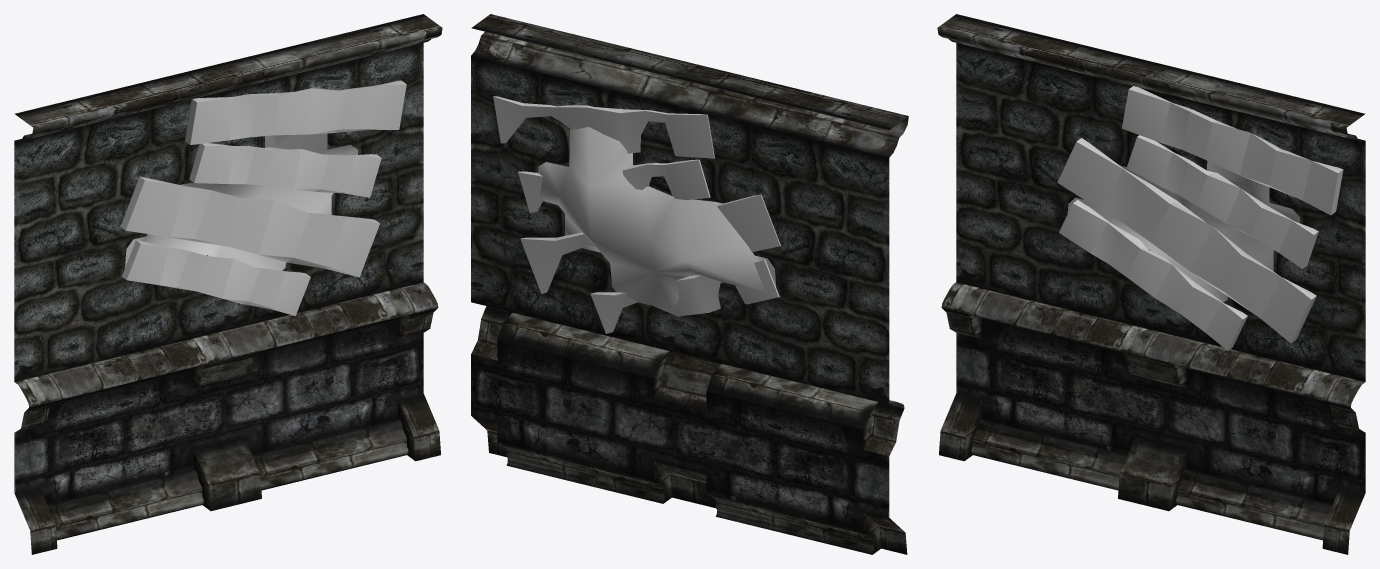
Rendered from default_broken02.dae.
The picture shows the model from 3 angles, left to right: view 1: azimuth 30°, elevation 25°; view 2: azimuth 150°, elevation 25°; view 3: azimuth 330°, elevation 25°; orthographic projection. The views are drawn at different scales.
Parts seen in each view (by area): view 1: polySurface120, polySurface121, polySurface116; view 2: polySurface120, polySurface116, polySurface121; view 3: polySurface120, polySurface121, polySurface116.
Part boxes in pixels (left/top/right/bottom): polySurface120: left=14, top=14, right=442, bottom=554; polySurface121: left=120, top=80, right=406, bottom=315; polySurface116: left=125, top=133, right=357, bottom=270; polySurface120: left=471, top=14, right=908, bottom=554; polySurface116: left=538, top=127, right=776, bottom=308; polySurface121: left=493, top=96, right=780, bottom=333; polySurface120: left=937, top=14, right=1365, bottom=554; polySurface121: left=1057, top=86, right=1343, bottom=350; polySurface116: left=1067, top=161, right=1299, bottom=302.
Size of what is drawn, in the model's own units: 4 by 4 by 0.6759.
